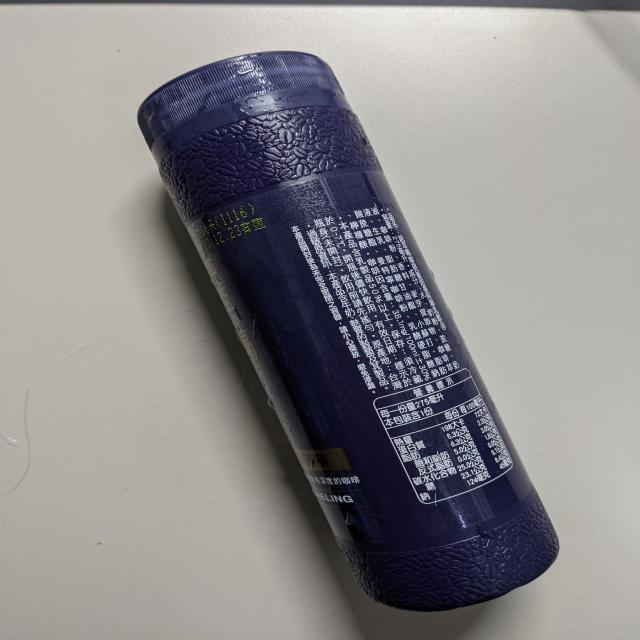Plastic: (138, 46, 558, 607)
